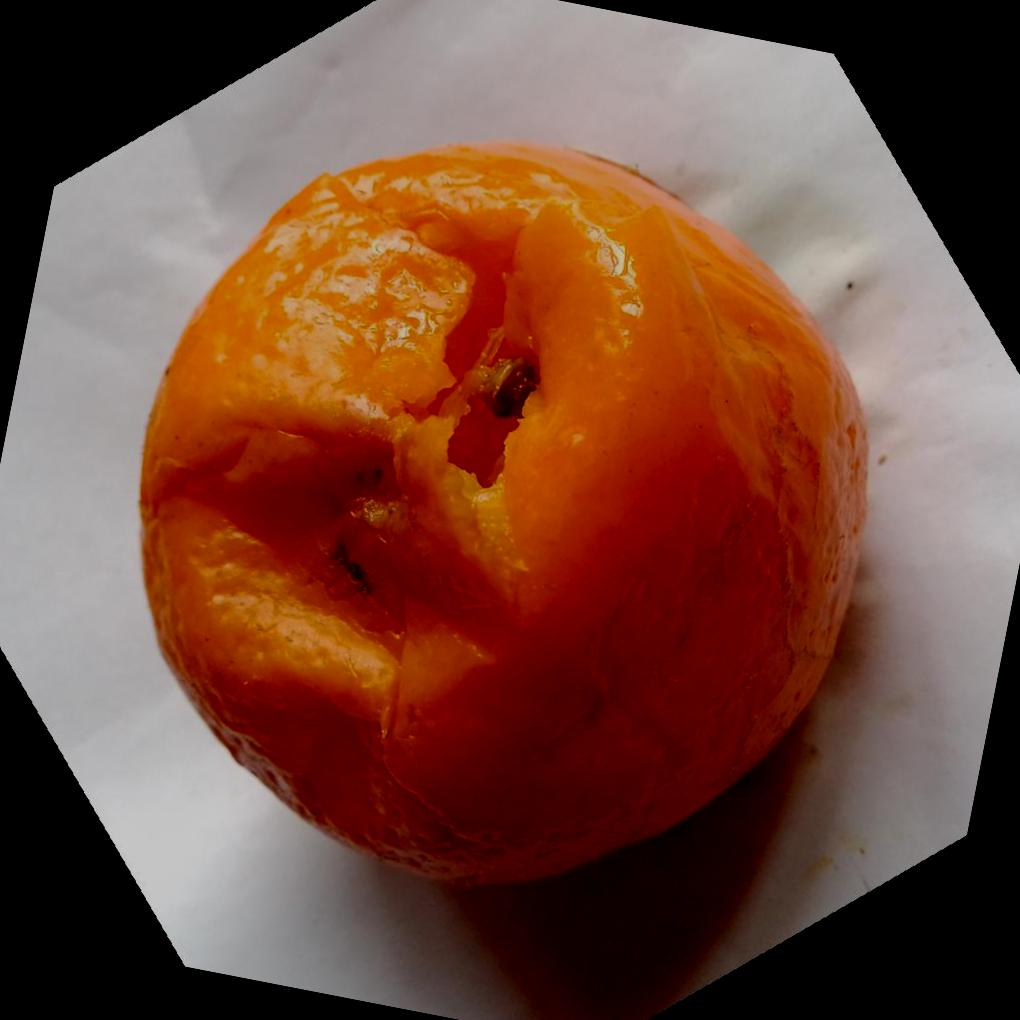FreshOrange: (136, 142, 872, 892)
